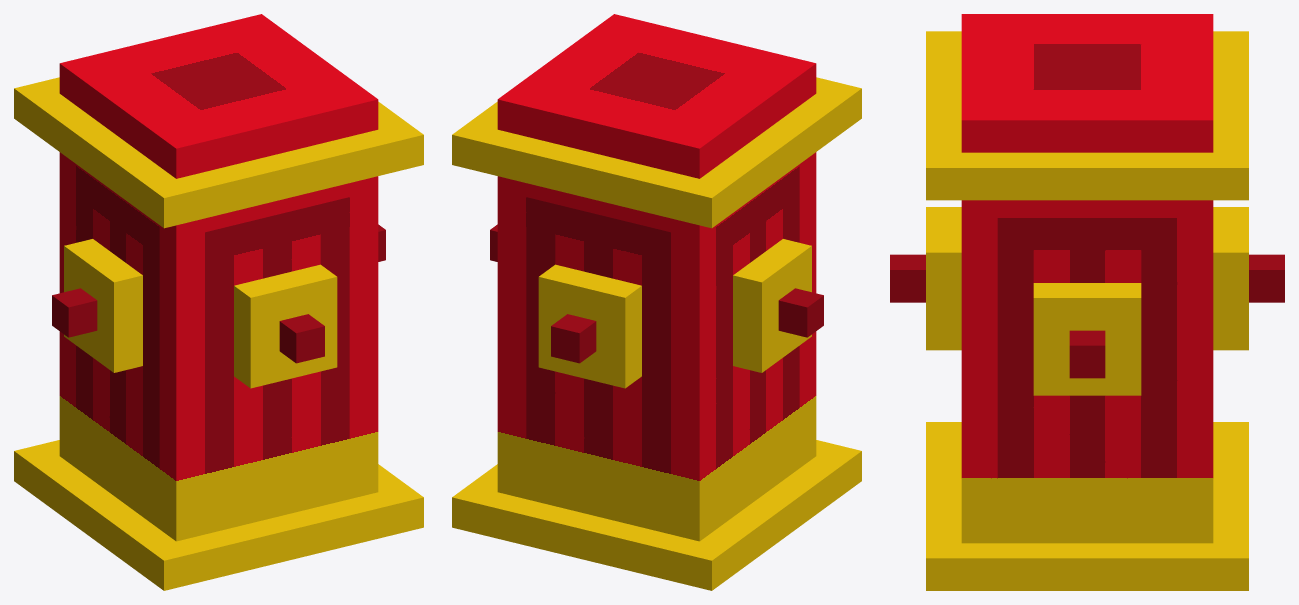
The model's file is fire_hydrant_002_yell.dae.
The picture shows the model from 3 angles, left to right: view 1: azimuth 30°, elevation 25°; view 2: azimuth 150°, elevation 25°; view 3: azimuth 270°, elevation 25°; orthographic projection. The views are drawn at different scales.
Parts seen in each view (by area): view 1: pizza_men_23; view 2: pizza_men_23; view 3: pizza_men_23.
Part boxes in pixels (x1,y1,x2,y2): pizza_men_23: (14,14,423,590); pizza_men_23: (452,14,861,590); pizza_men_23: (890,14,1284,590).
Bounding box in the file's own units: 11 × 14 × 11.
1 material, 1 textured.
